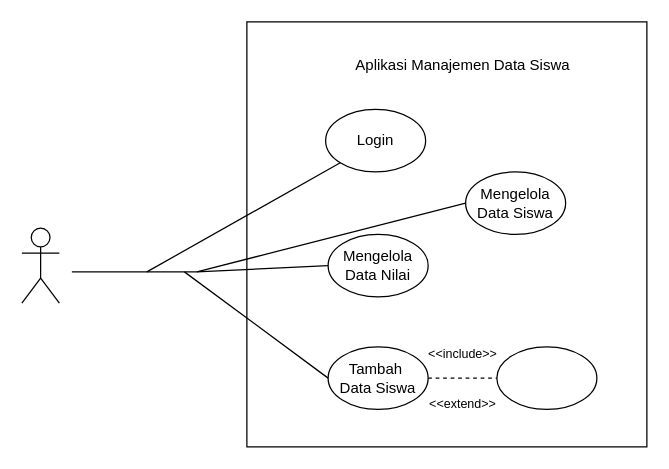
Some shapes in this 669 by 469 pixel diagram are drawn without their labels. Here are the shapes that lost their labels. From the top down, the centre of each, then its label:
At [40,265]: "Actor".
At [546,377]: "Lihat Nilai Siswa".
